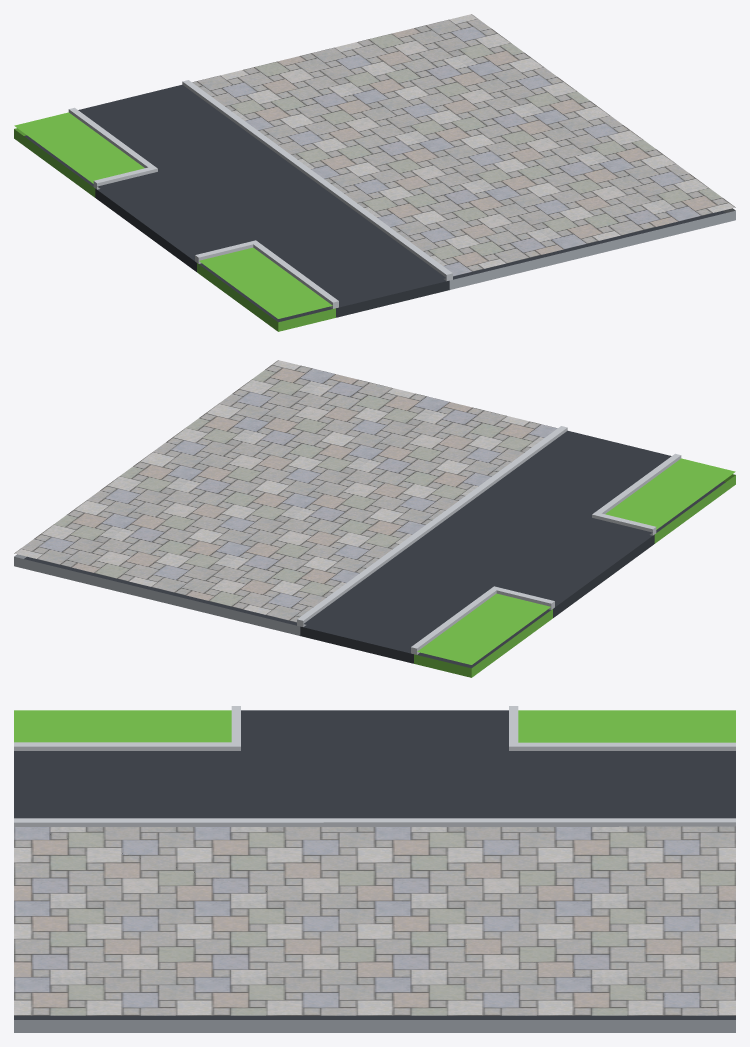
Rendered from set_b_tiles_04_pacote.glb.
3 renders of one model, top to bottom at view 1: azimuth 30°, elevation 25°; view 2: azimuth 150°, elevation 25°; view 3: azimuth 270°, elevation 25°, orthographic. The views are drawn at different scales.
Visible parts, largest first — view 1: set_b_tiles_04_pacote; view 2: set_b_tiles_04_pacote; view 3: set_b_tiles_04_pacote.
Boxes of the visible parts, x1,y1,x2,y2 form: set_b_tiles_04_pacote: (14,14,735,331); set_b_tiles_04_pacote: (14,360,735,677); set_b_tiles_04_pacote: (14,706,735,1032).
Bounding box in the file's own units: 15 × 0.5 × 15.
2 materials, 2 textured.
